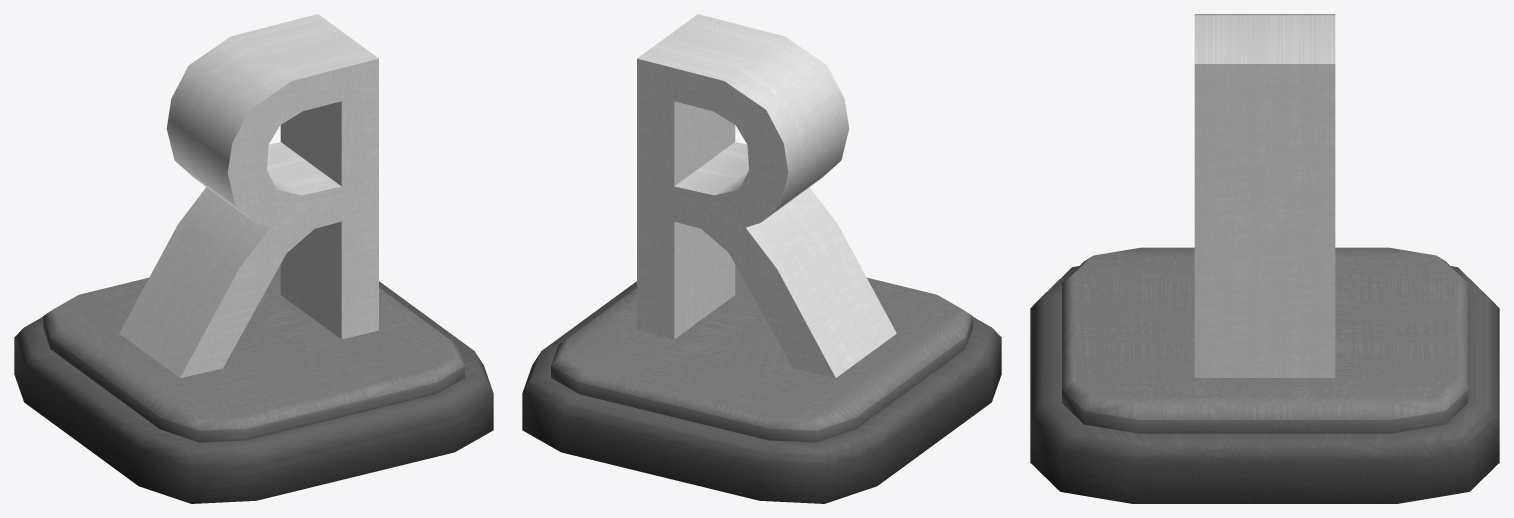
The model's file is Statue Letter R Hand.fbx.
3 views of the same model, side by side, from view 1: azimuth 30°, elevation 25°; view 2: azimuth 150°, elevation 25°; view 3: azimuth 270°, elevation 25° (orthographic). The views are drawn at different scales.
Parts seen in each view (by area): view 1: StatueBase (1), Letter; view 2: StatueBase (1), Letter; view 3: StatueBase (1), Letter.
Part boxes in pixels (x1,y1,x2,y2): StatueBase (1): [14, 265, 493, 503]; Letter: [119, 14, 378, 377]; StatueBase (1): [522, 265, 1001, 503]; Letter: [637, 14, 896, 377]; StatueBase (1): [1030, 247, 1499, 503]; Letter: [1194, 14, 1335, 377].
Size of the model in its own units: 0.9118 by 0.8657 by 0.9299.
